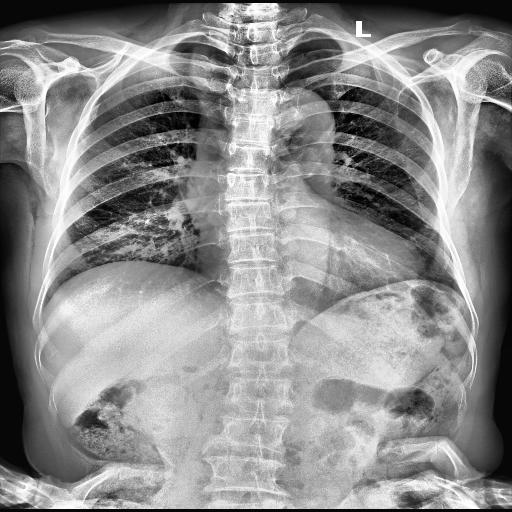0- Aortic enlargement: (260, 88, 336, 164), (280, 86, 336, 143)
3- Cardiomegaly: (196, 231, 422, 312), (196, 224, 428, 291), (194, 234, 424, 278)
